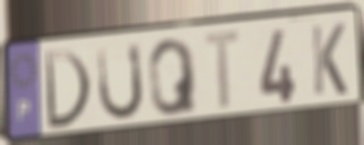4: (257, 24, 299, 107)
D: (42, 47, 94, 132)
K: (309, 21, 350, 99)
Q: (146, 35, 200, 119)
T: (200, 27, 247, 115)
U: (95, 40, 146, 124)
